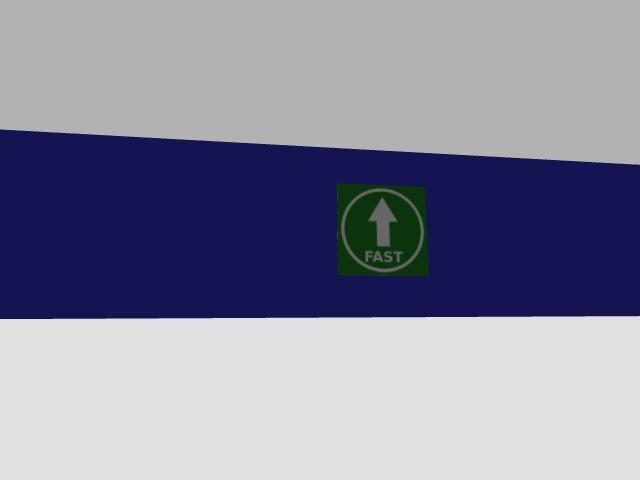fast: (334, 185, 441, 280), (338, 184, 428, 275)
